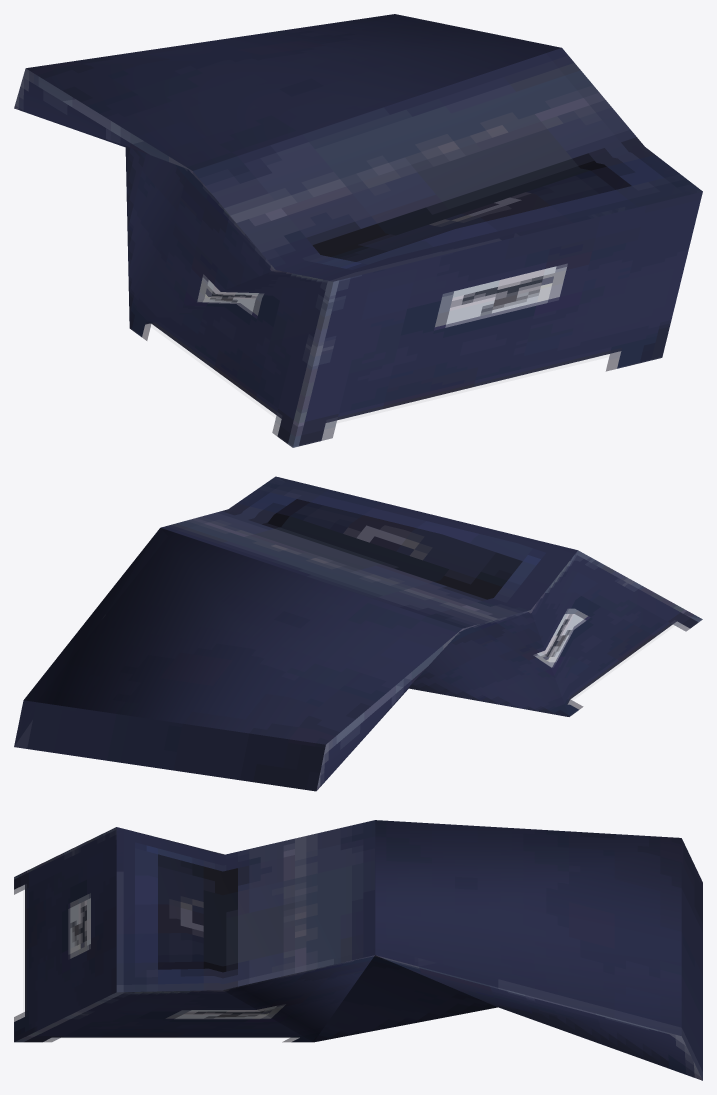
Rendered from Environment - Prop - mailbox - Damaged - PMmailbox_d.glb.
3 views of the same model, one above another, from view 1: azimuth 30°, elevation 25°; view 2: azimuth 150°, elevation 25°; view 3: azimuth 270°, elevation 25° (orthographic). The views are drawn at different scales.
Parts seen in each view (by area): view 1: PMMAILBOX_D; view 2: PMMAILBOX_D; view 3: PMMAILBOX_D.
Part boxes in pixels (x1=…): PMMAILBOX_D: x1=14, y1=14, x2=702, y2=447; PMMAILBOX_D: x1=14, y1=476, x2=702, y2=791; PMMAILBOX_D: x1=14, y1=820, x2=702, y2=1080.
Size of the model in its own units: 4.58 by 1.34 by 6.39.
1 material, 1 textured.
